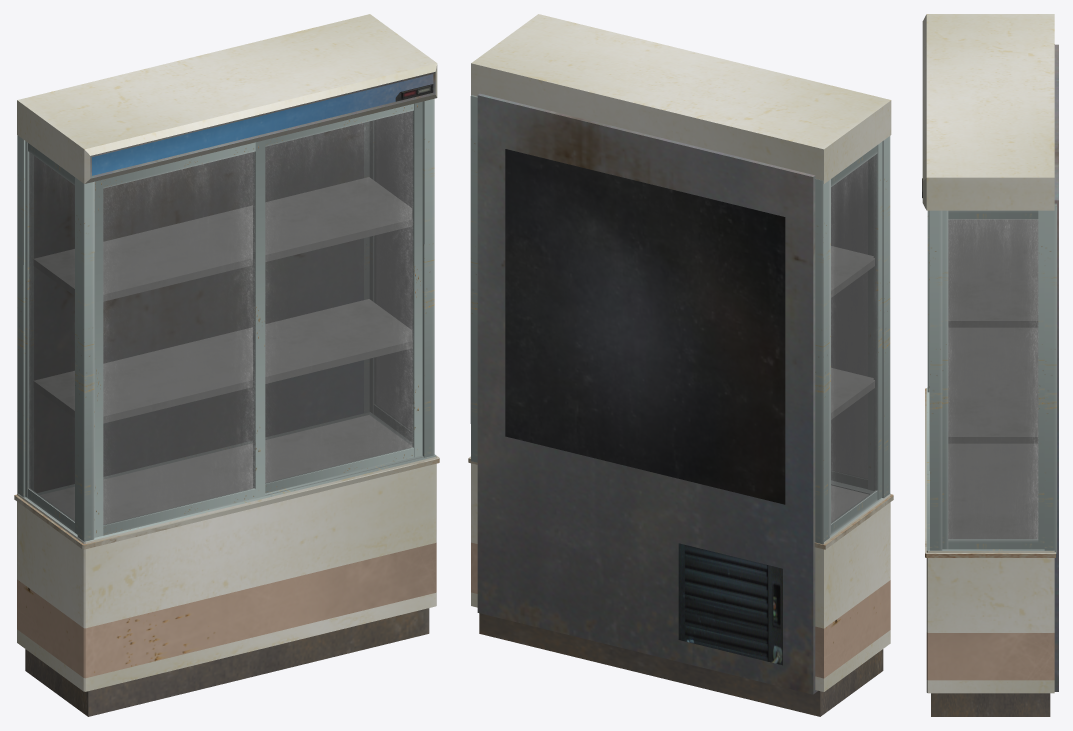
File: drinkcooler1_1.fbx
The picture shows the model from 3 angles, left to right: view 1: azimuth 30°, elevation 25°; view 2: azimuth 150°, elevation 25°; view 3: azimuth 270°, elevation 25°; orthographic projection. The views are drawn at different scales.
Parts seen in each view (by area): view 1: drinkcooler1_1, drinkcooler1_3, drinkcooler1_2; view 2: drinkcooler1_1, drinkcooler1_3; view 3: drinkcooler1_1, drinkcooler1_3.
Boxes of the visible parts, x1,y1,x2,y2 form: drinkcooler1_1: (14, 14, 439, 716); drinkcooler1_3: (94, 140, 265, 537); drinkcooler1_2: (253, 101, 422, 493); drinkcooler1_1: (468, 14, 893, 716); drinkcooler1_3: (831, 157, 873, 490); drinkcooler1_1: (922, 14, 1058, 716); drinkcooler1_3: (929, 210, 929, 470).
Bounding box in the file's own units: 105 × 161 × 36.76.
